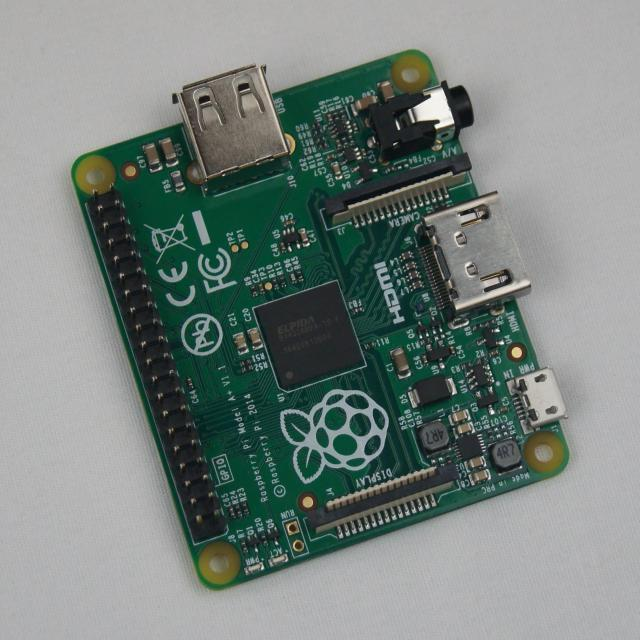Raspberry-Pi-1-A-: (73, 51, 568, 589)
